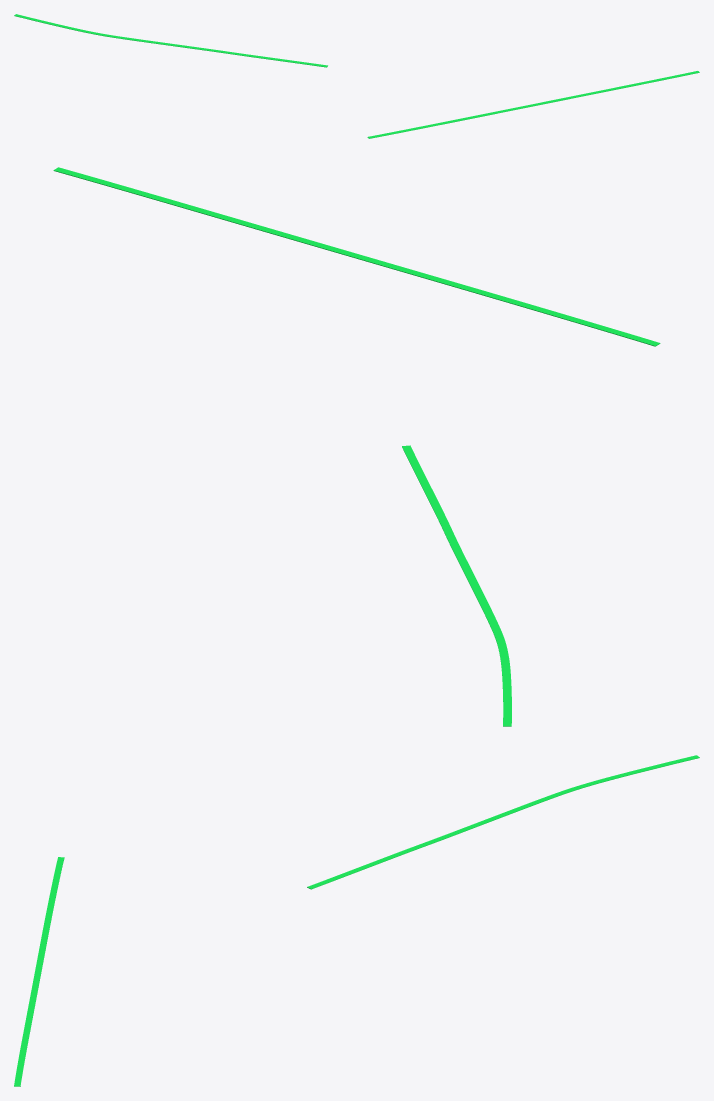
Rendered from MonzaDrs.glb.
3 views of the same model, one above another, from view 1: azimuth 30°, elevation 25°; view 2: azimuth 150°, elevation 25°; view 3: azimuth 270°, elevation 25° (orthographic). The views are drawn at different scales.
Visible parts, largest first — view 1: DrsStrip_2, DrsStrip_1; view 2: DrsStrip_2, DrsStrip_1; view 3: DrsStrip_1, DrsStrip_2.
Boxes of the visible parts, x1,y1,x2,y2 form: DrsStrip_2: [367, 71, 699, 138]; DrsStrip_1: [14, 14, 327, 67]; DrsStrip_2: [53, 167, 660, 346]; DrsStrip_1: [402, 445, 511, 726]; DrsStrip_1: [307, 755, 699, 889]; DrsStrip_2: [14, 857, 64, 1086].
Bounding box in the file's own units: 9.27 × 0.006 × 8.11.
